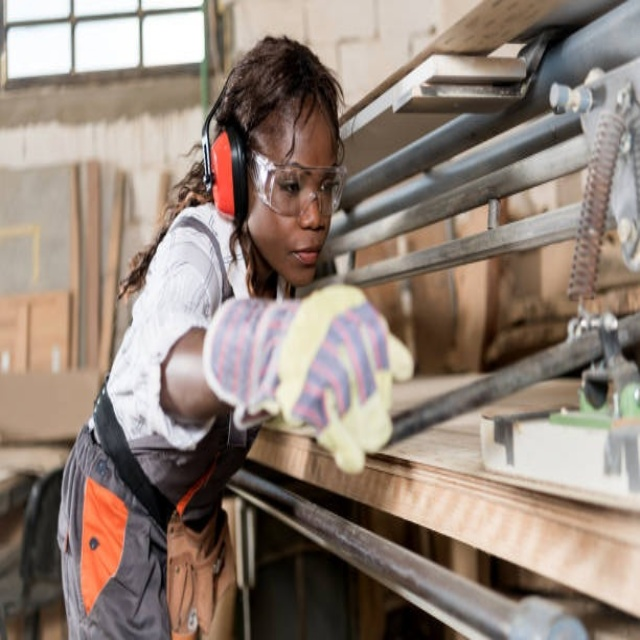Gafas: (247, 147, 348, 219)
Guantes: (207, 284, 413, 474), (165, 501, 236, 639)
Sin_mascara: (283, 238, 324, 276)
